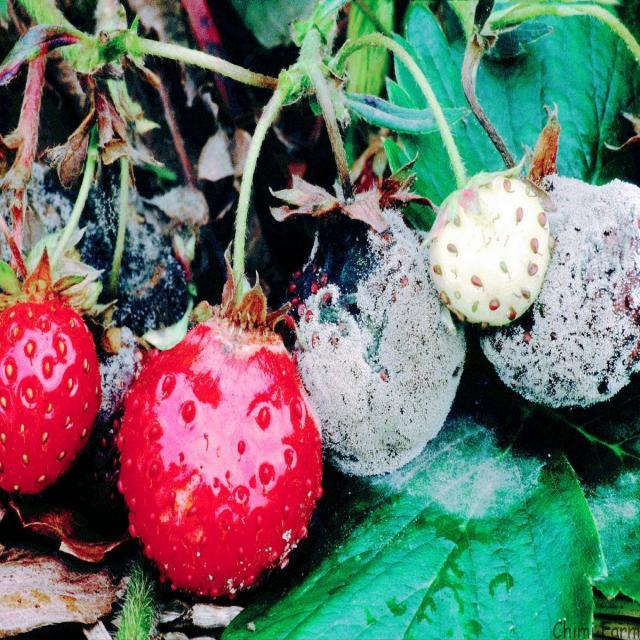Fruta sana: (133, 300, 319, 604), (5, 286, 100, 492)
Moho gris: (286, 199, 470, 473), (484, 156, 640, 414), (2, 142, 200, 336)
